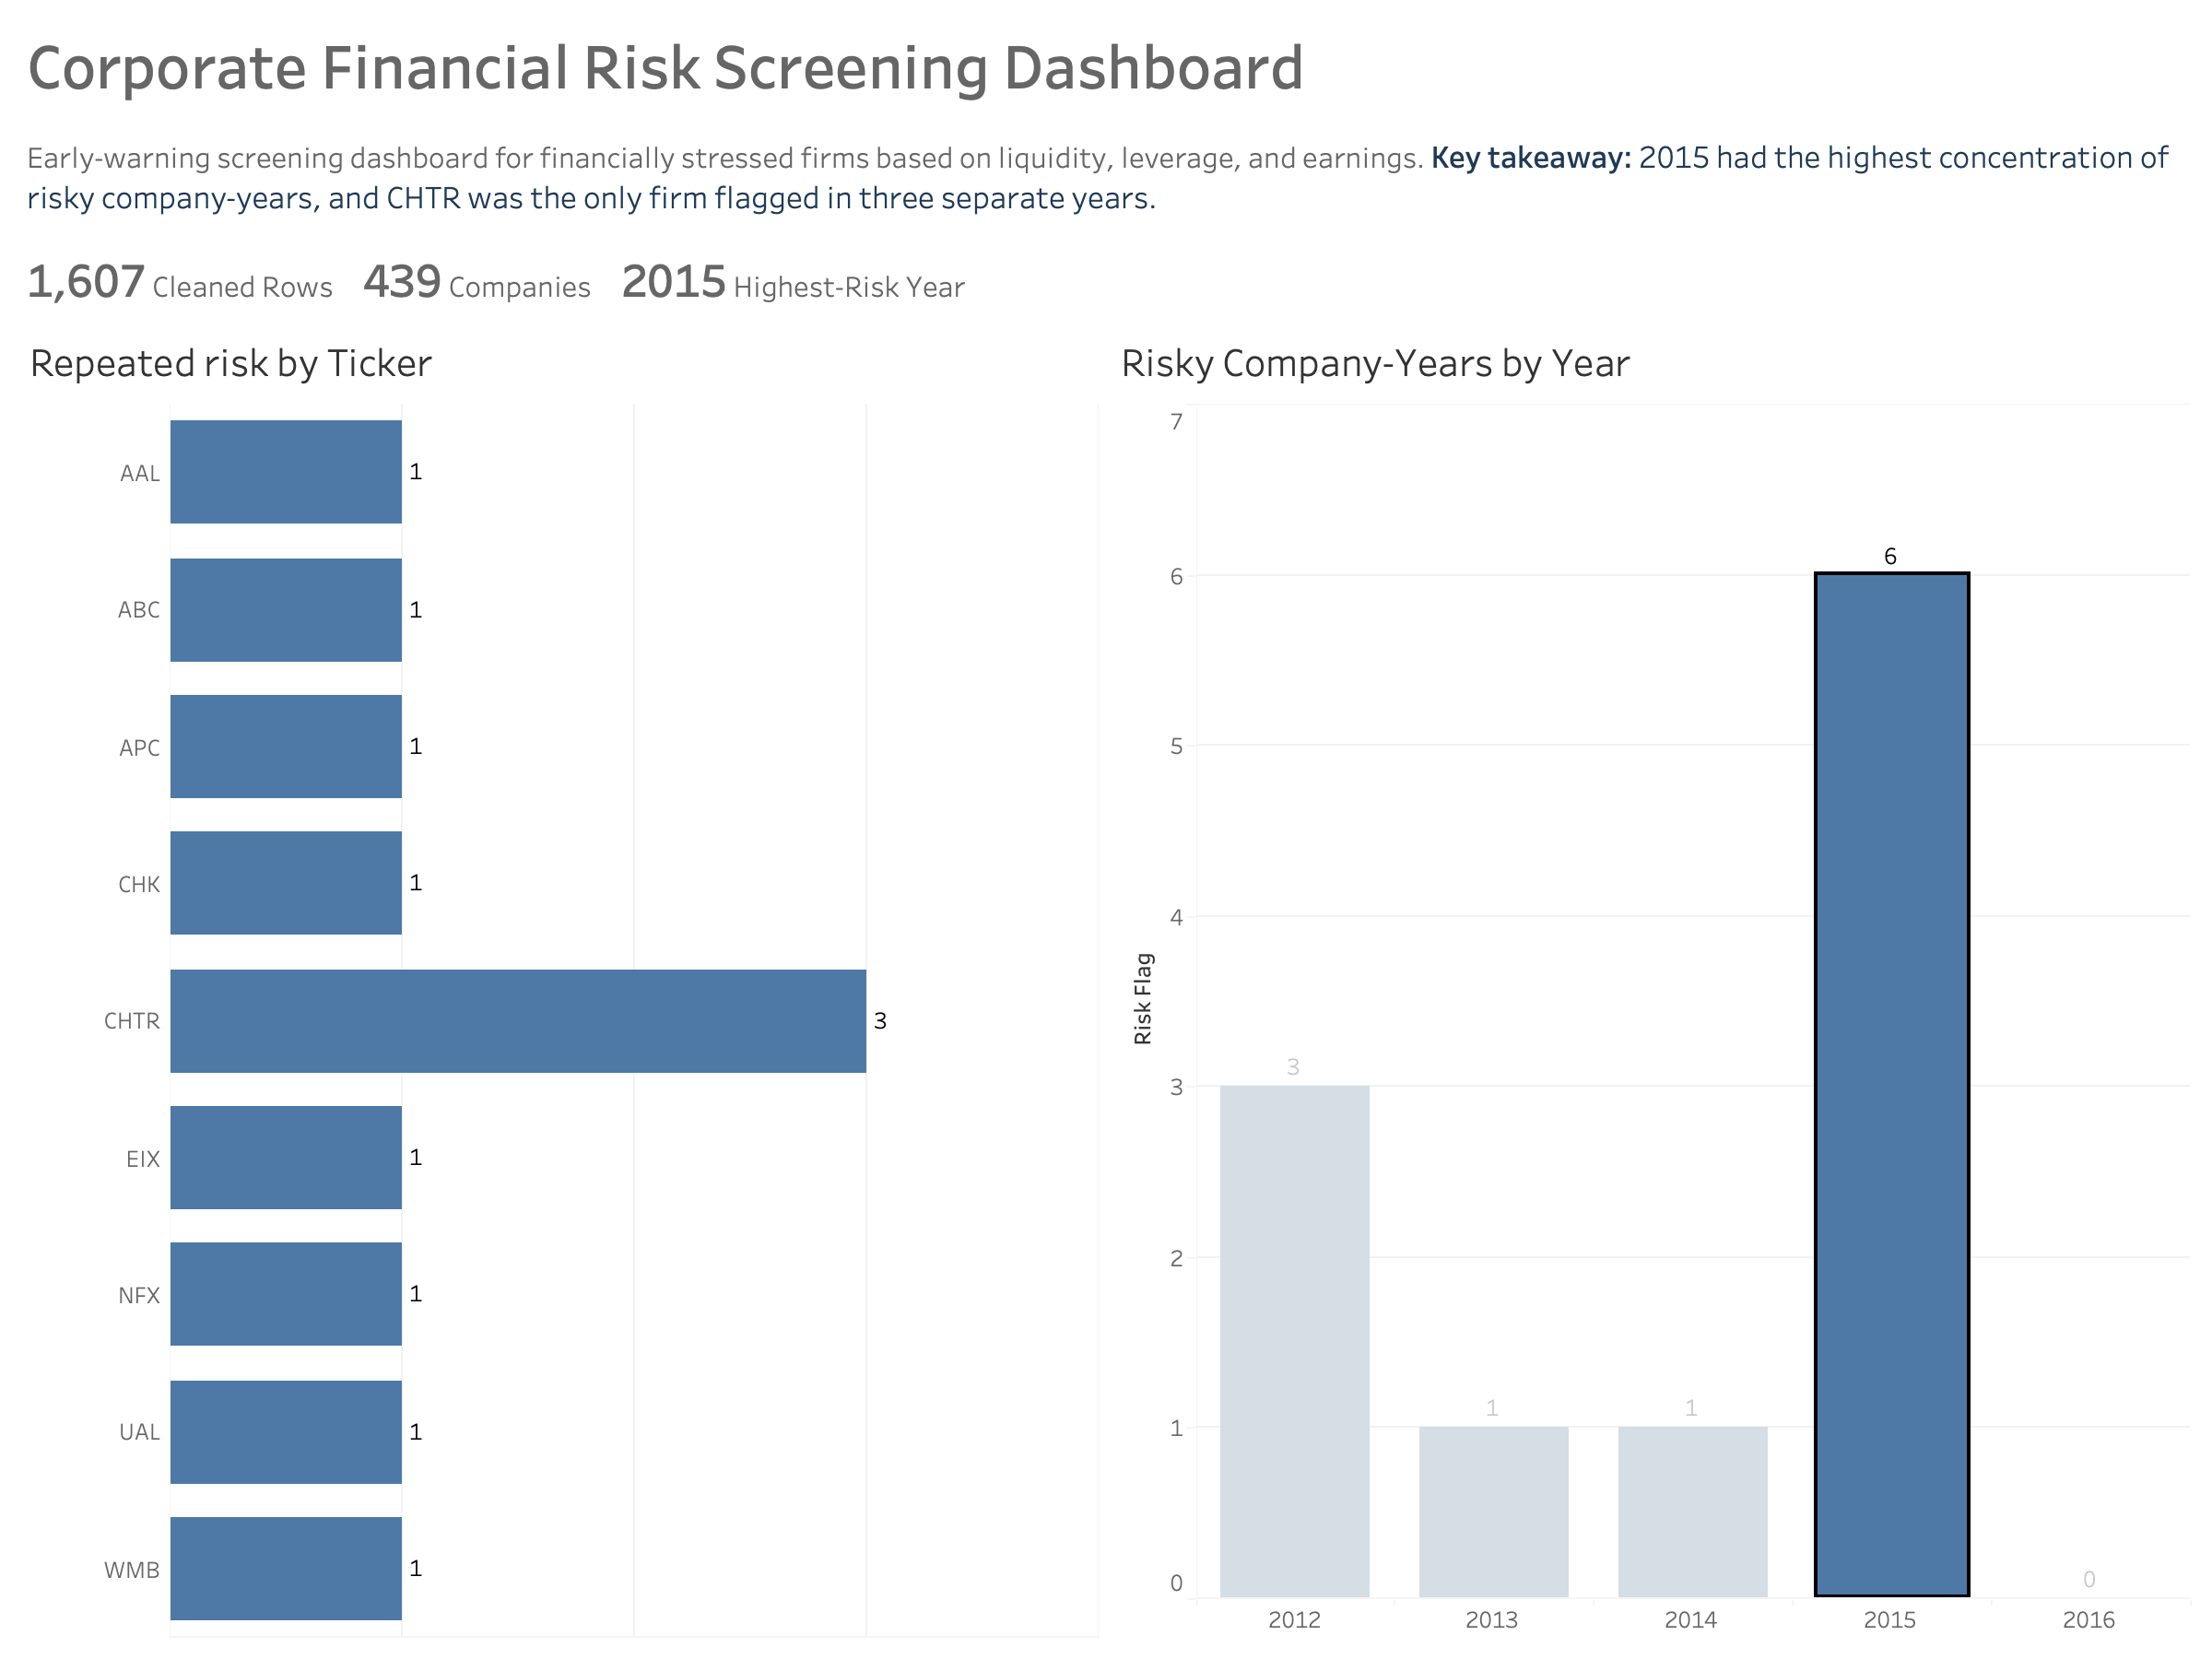

This screenshot's page, from the dashboard's own definition file:
{"tool":"tableau","page":{"name":"Corporate-Financial-Risk","canvas":[1200,900],"ordinal":0},"visuals":[{"type":"text","box":[8,8,1184,54]},{"type":"text","box":[8,62,1184,46.8]},{"type":"text","box":[8,109.7,1184,41.4]},{"type":"worksheet","title":"Repeated risk by Ticker","mark":"Automatic","rows":["Ticker Symbol"],"cols":["Calculation_6268940537802755"],"box":[8,171.8,592,720.2]},{"type":"worksheet","title":"Risky Company-Years by Year","mark":"Bar","rows":["Calculation_6268940537802755"],"cols":["Calculation_6268940537008128"],"box":[600,171.8,592,720.2]}]}

Visuals, with their boxes in screenshot pixels (x1, y1, x2, y2), scaled from the page's 1200x900 canvas onto the 2212x1659 screenshot:
text: region(15, 15, 2197, 114)
text: region(15, 114, 2197, 201)
text: region(15, 202, 2197, 278)
"Repeated risk by Ticker" worksheet: region(15, 317, 1106, 1644)
"Risky Company-Years by Year" worksheet (Bar marks): region(1106, 317, 2197, 1644)
